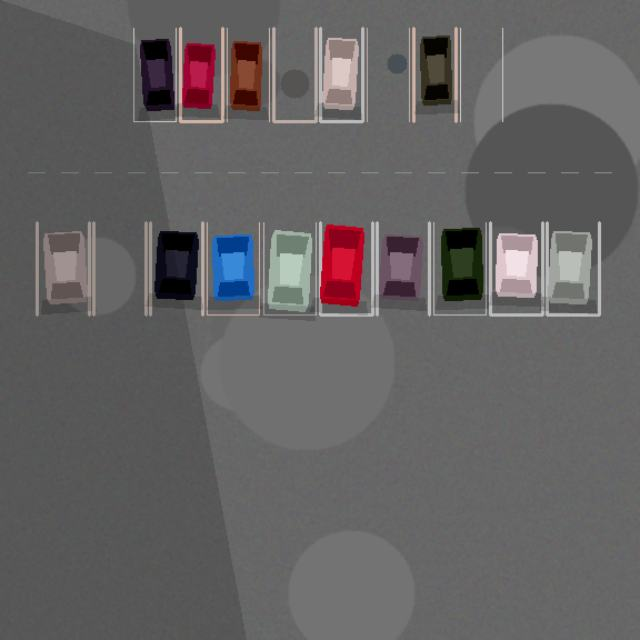space-empty: (93, 222, 146, 314), (273, 28, 316, 121), (367, 28, 409, 121), (460, 28, 502, 121)
space-occupied: (263, 222, 316, 314), (433, 222, 486, 314), (37, 222, 89, 314), (150, 222, 202, 314), (207, 222, 259, 314), (320, 222, 372, 314), (377, 222, 429, 314), (490, 222, 542, 314), (547, 222, 599, 314), (133, 28, 176, 121), (413, 28, 456, 121), (180, 28, 222, 121), (227, 28, 269, 121), (320, 28, 362, 121)
